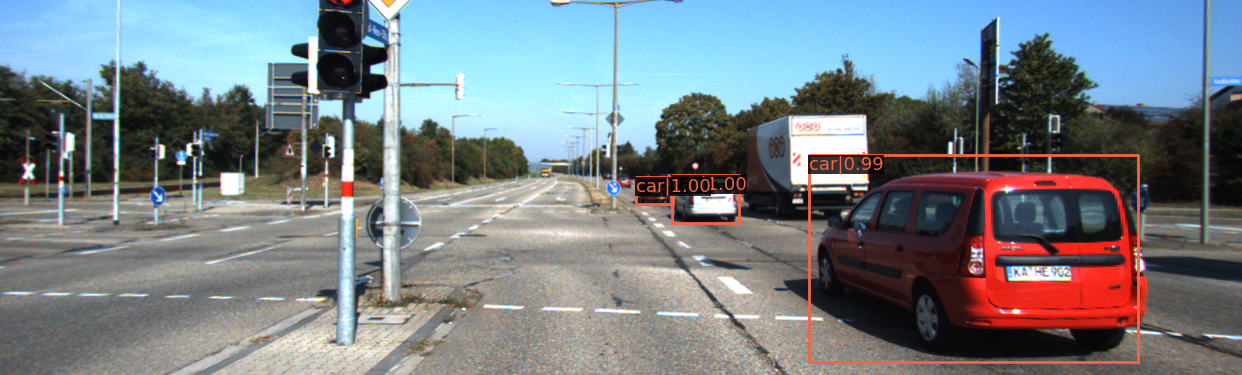car: (814, 164, 1155, 373), (673, 177, 739, 225), (903, 178, 987, 209), (637, 178, 671, 206)
